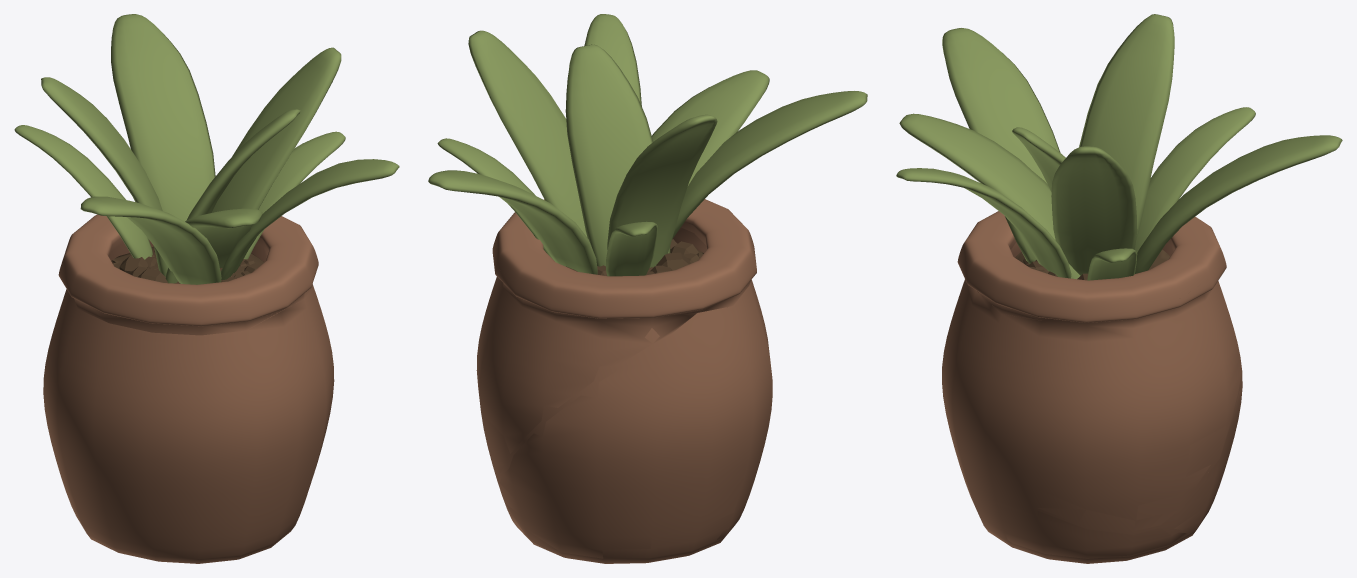
File: Plant 04.fbx
The picture shows the model from 3 angles, left to right: view 1: azimuth 30°, elevation 25°; view 2: azimuth 150°, elevation 25°; view 3: azimuth 270°, elevation 25°; orthographic projection. The views are drawn at different scales.
Visible parts, largest first — view 1: Plant.pot004, Plant.004, Plant_B_Leaf.010, Plant_B_Leaf.015, Plant_B_Leaf.012, Plant_pot.004_cell.003, Plant_B_Leaf.014, Plant_pot.004_cell.002, Plant_B_Leaf.011, Plant_B_Leaf.017, Plant_B_Leaf.018, Plant_B_Leaf.016 (+1 smaller); view 2: Plant.004, Plant_pot.004_cell.002, Plant.pot004, Plant_pot.004_cell.003, Plant_B_Leaf.010; view 3: Plant.pot004, Plant_pot.004_cell.003, Plant.004, Plant_B_Leaf.012, Plant_B_Leaf.011, Plant_pot.004_cell.001, Plant_B_Leaf.010, Plant_B_Leaf.014, Plant_B_Leaf.016, Plant_pot.004_cell.002, Plant_B_Leaf.015, Plant_B_Leaf.017 (+2 smaller).
Part boxes in pixels (x1,y1,x2,y2): Plant.pot004: (43, 214, 334, 563); Plant.004: (14, 14, 398, 283); Plant_B_Leaf.010: (117, 17, 215, 221); Plant_B_Leaf.015: (81, 205, 221, 284); Plant_B_Leaf.012: (44, 79, 168, 276); Plant_pot.004_cell.003: (74, 246, 313, 335); Plant_B_Leaf.014: (21, 125, 152, 259); Plant_pot.004_cell.002: (43, 341, 76, 508); Plant_B_Leaf.011: (251, 51, 341, 209); Plant_B_Leaf.017: (193, 211, 262, 268); Plant_B_Leaf.018: (170, 110, 300, 283); Plant_B_Leaf.016: (222, 166, 399, 280); Plant.004: (428, 14, 867, 276); Plant_pot.004_cell.002: (500, 341, 753, 558); Plant.pot004: (481, 199, 772, 563); Plant_pot.004_cell.003: (476, 227, 751, 472); Plant_B_Leaf.010: (428, 170, 590, 271); Plant.pot004: (942, 211, 1242, 563); Plant_pot.004_cell.003: (968, 240, 1241, 530); Plant.004: (897, 14, 1342, 279); Plant_B_Leaf.012: (1079, 14, 1170, 240); Plant_B_Leaf.011: (1051, 147, 1137, 275); Plant_pot.004_cell.001: (996, 501, 1189, 558); Plant_B_Leaf.010: (1135, 140, 1336, 273); Plant_B_Leaf.014: (1135, 109, 1255, 253); Plant_B_Leaf.016: (896, 171, 1071, 278); Plant_pot.004_cell.002: (1174, 387, 1242, 529); Plant_B_Leaf.015: (942, 33, 1036, 263); Plant_B_Leaf.017: (900, 120, 1075, 278).
Size of the model in its own units: 20.19 by 25.41 by 22.79.
